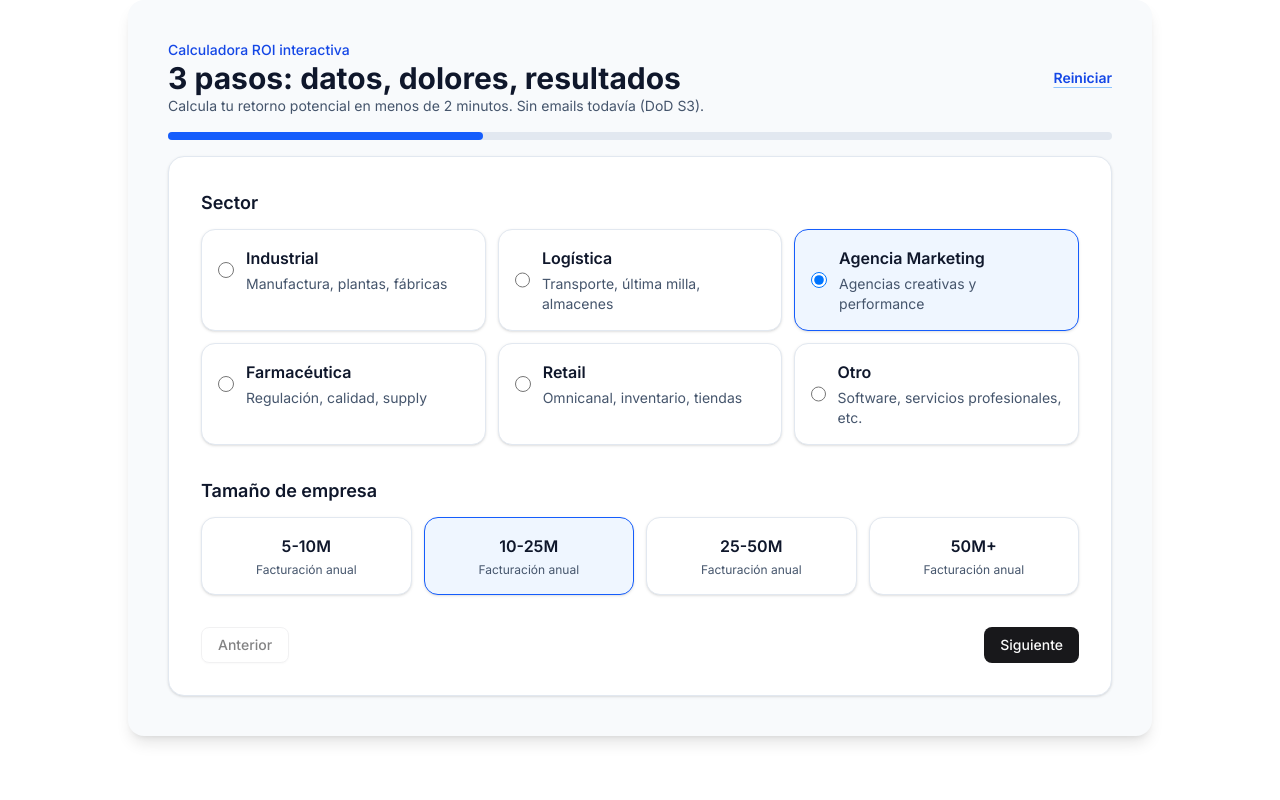
Test case: ROICalculator wizard › muestra aviso de coherencia cuando el gasto cloud supera el 15% de la facturación estimada
The width and height of the screenshot is (1280, 800).
Click the radio button labelled "Industrial Manufactura, plantas, fábricas".
click(226, 270)  # box [218,262,234,278]
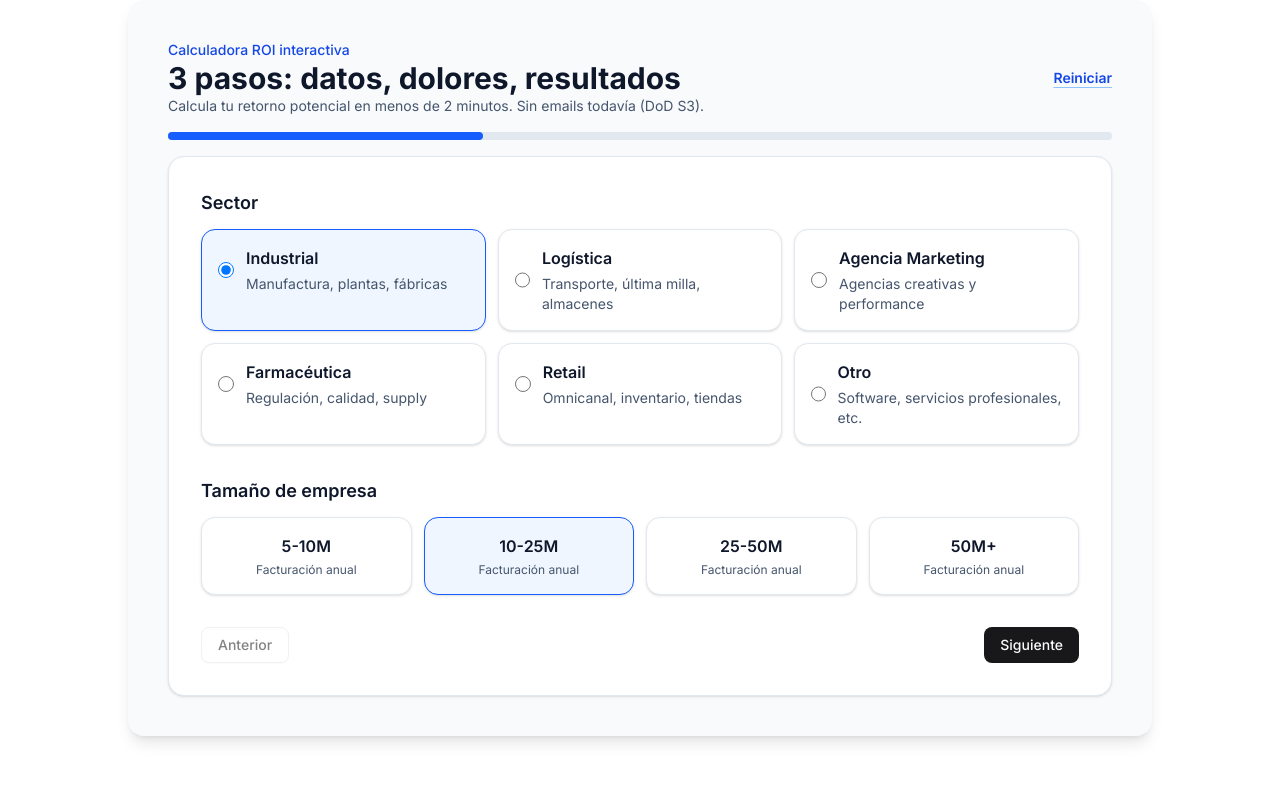
Click the radio button labelled "5-10M Facturación anual".
click(306, 556)  # box [201,517,412,595]
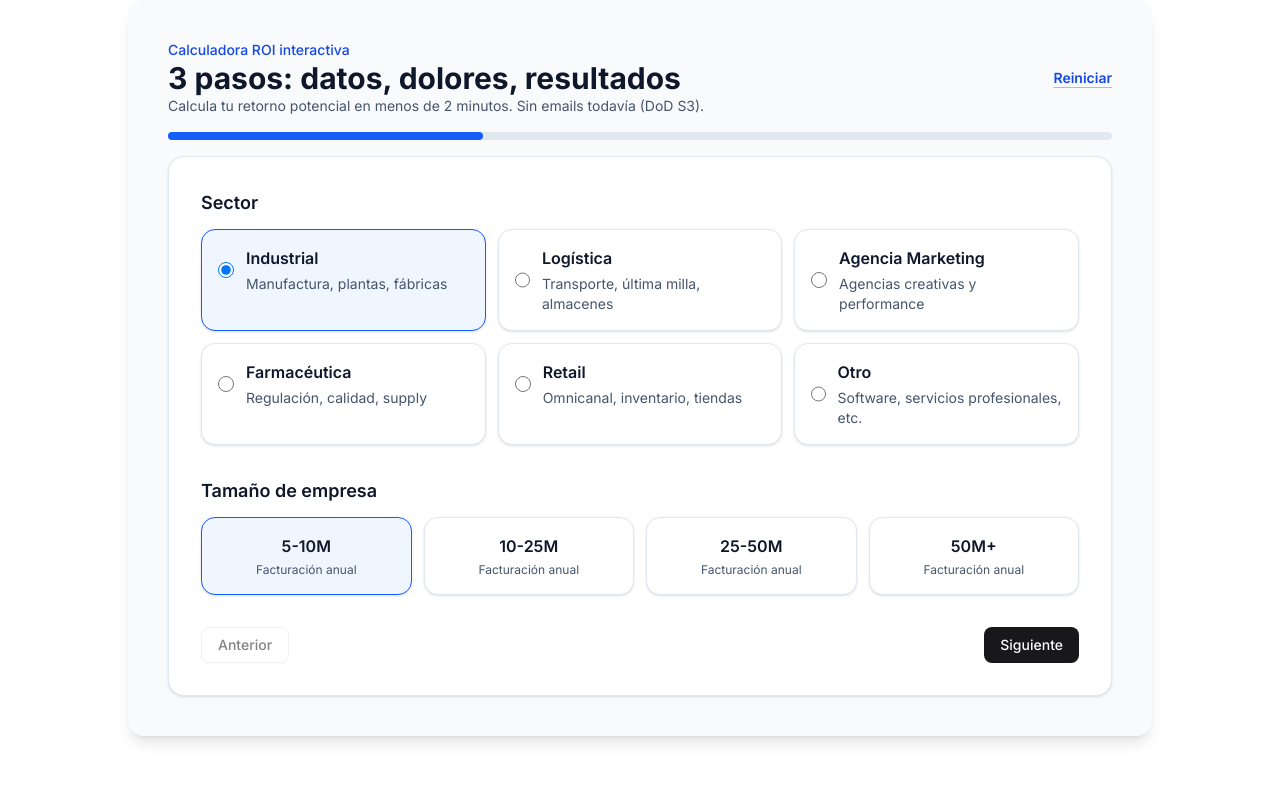
Click the button "Siguiente".
click(1032, 645)  # box [984,627,1079,663]
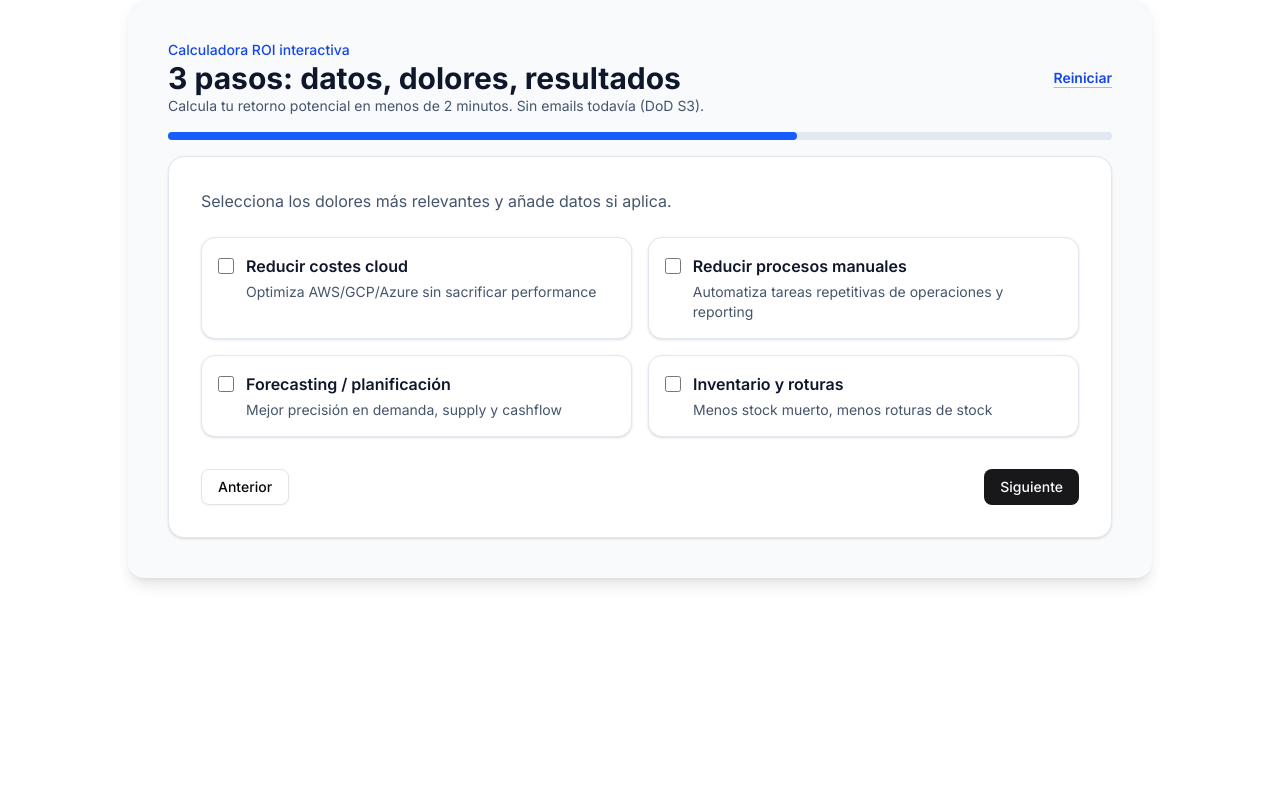
Click the checkbox labelled "Reducir costes cloud".
click(226, 266)  # box [218,258,234,274]
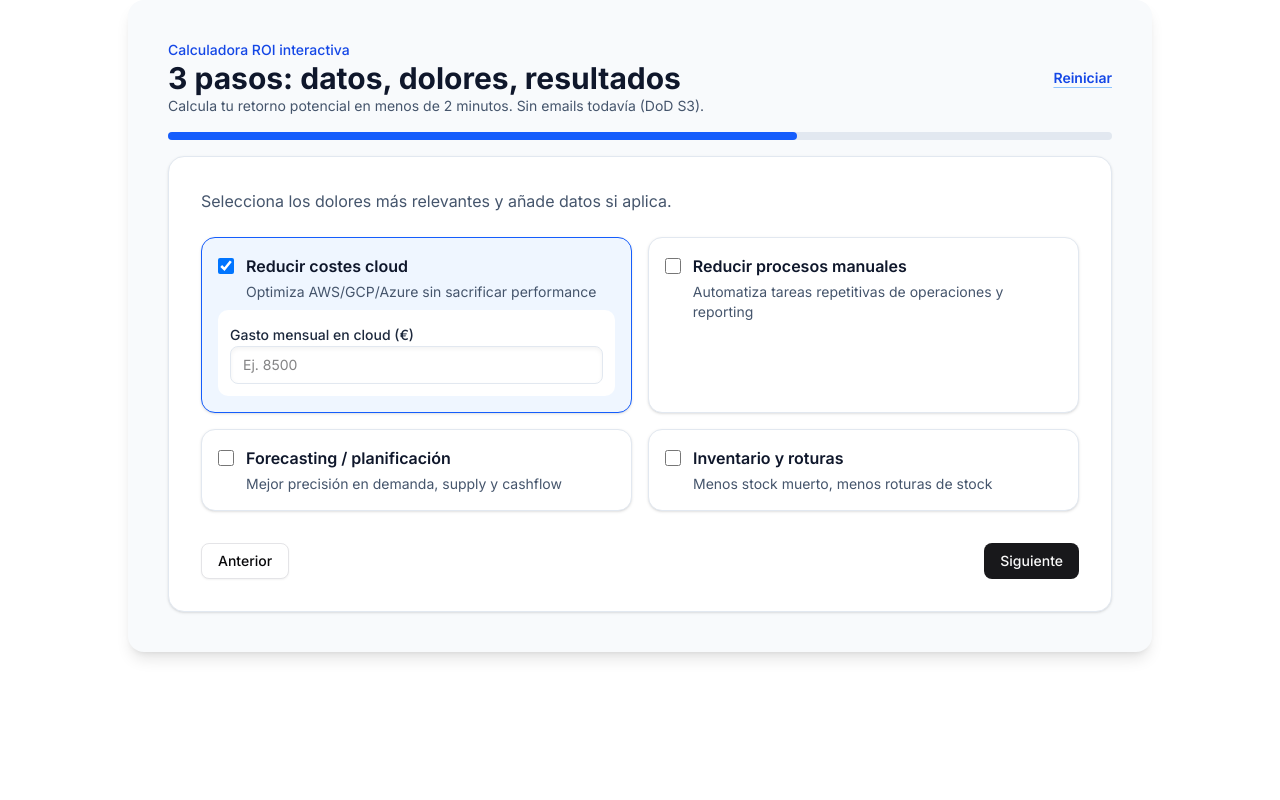
Type "95000" into the number field labelled "Gasto mensual en cloud (€)".
click(416, 365); type("95000")  # box [230,346,603,384]
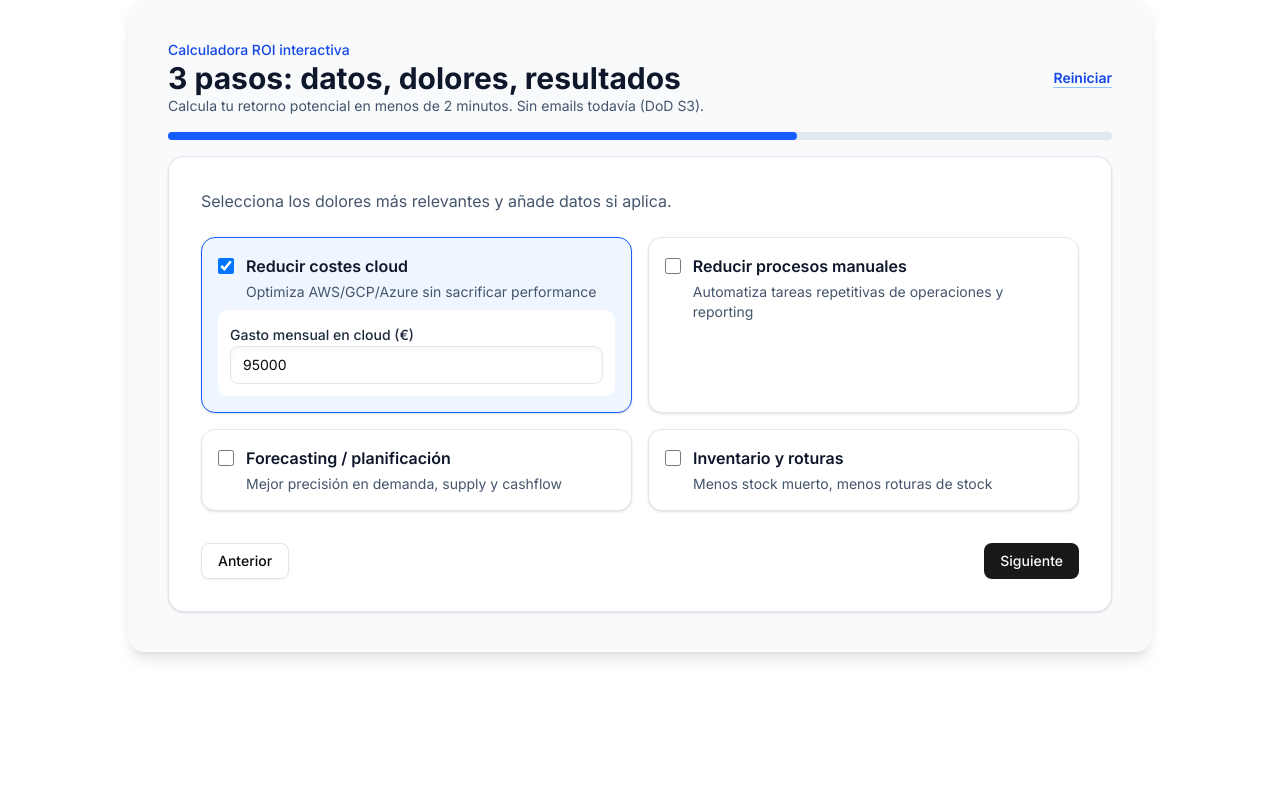
Click the button "Siguiente".
click(1032, 561)  # box [984,543,1079,579]
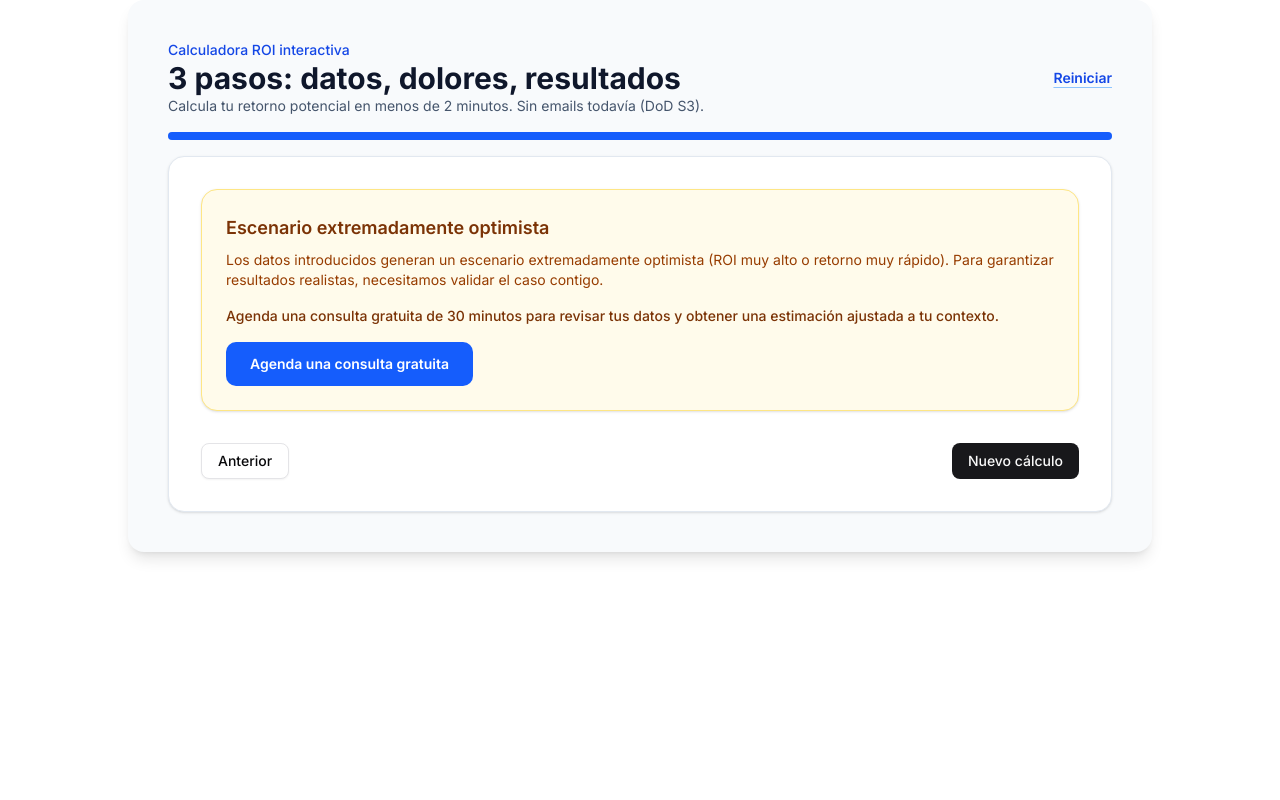
Expected: the heading "Escenario extremadamente optimista" is shown, [226,217,550,238]
Expected: the link "Agenda una consulta gratuita" is shown, [226,342,473,386]
